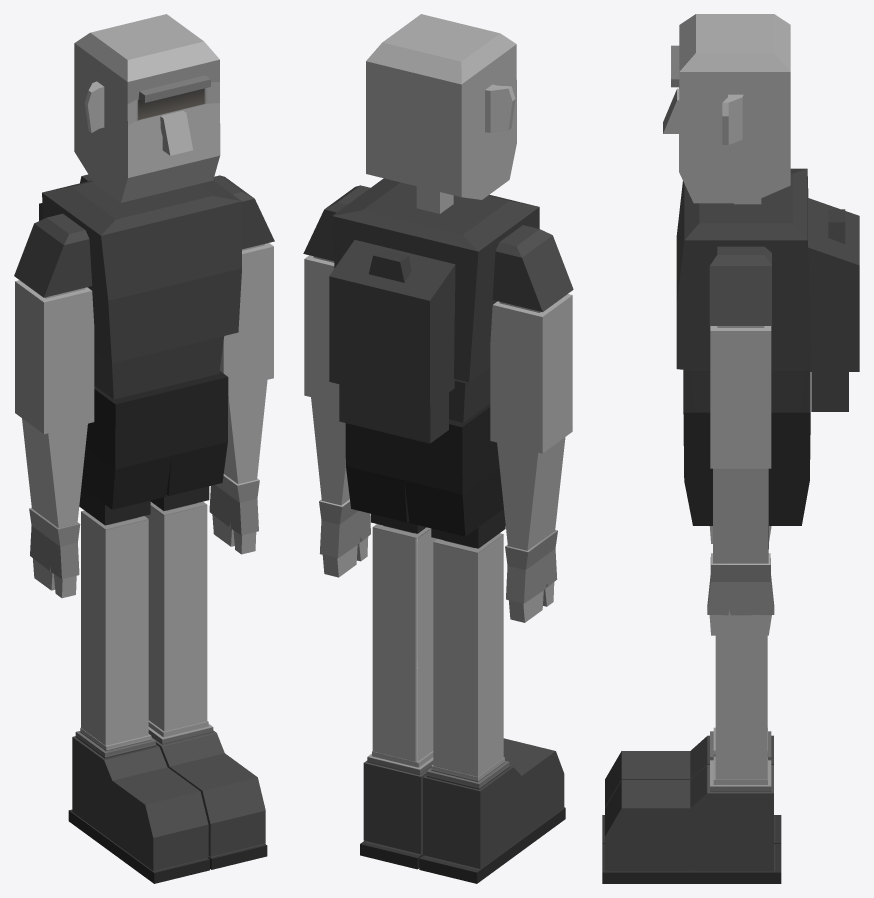
File: F_PlayerModel.fbx
The picture shows the model from 3 angles, left to right: view 1: azimuth 30°, elevation 25°; view 2: azimuth 150°, elevation 25°; view 3: azimuth 270°, elevation 25°; orthographic projection. The views are drawn at different scales.
Parts seen in each view (by area): view 1: Cube.010; view 2: Cube.010; view 3: Cube.010.
Part boxes in pixels (<box>): Cube.010: <box>14,14,274,883</box>; Cube.010: <box>303,14,573,883</box>; Cube.010: <box>602,14,859,883</box>.
Bounding box in the file's own units: 110 × 359 × 102.
